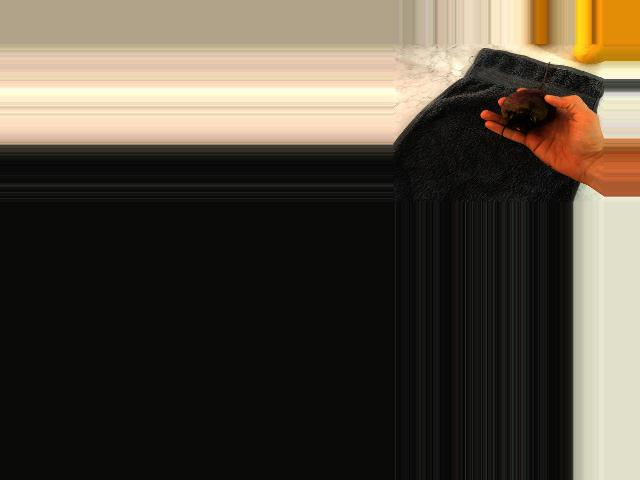beet: (501, 62, 556, 132)
